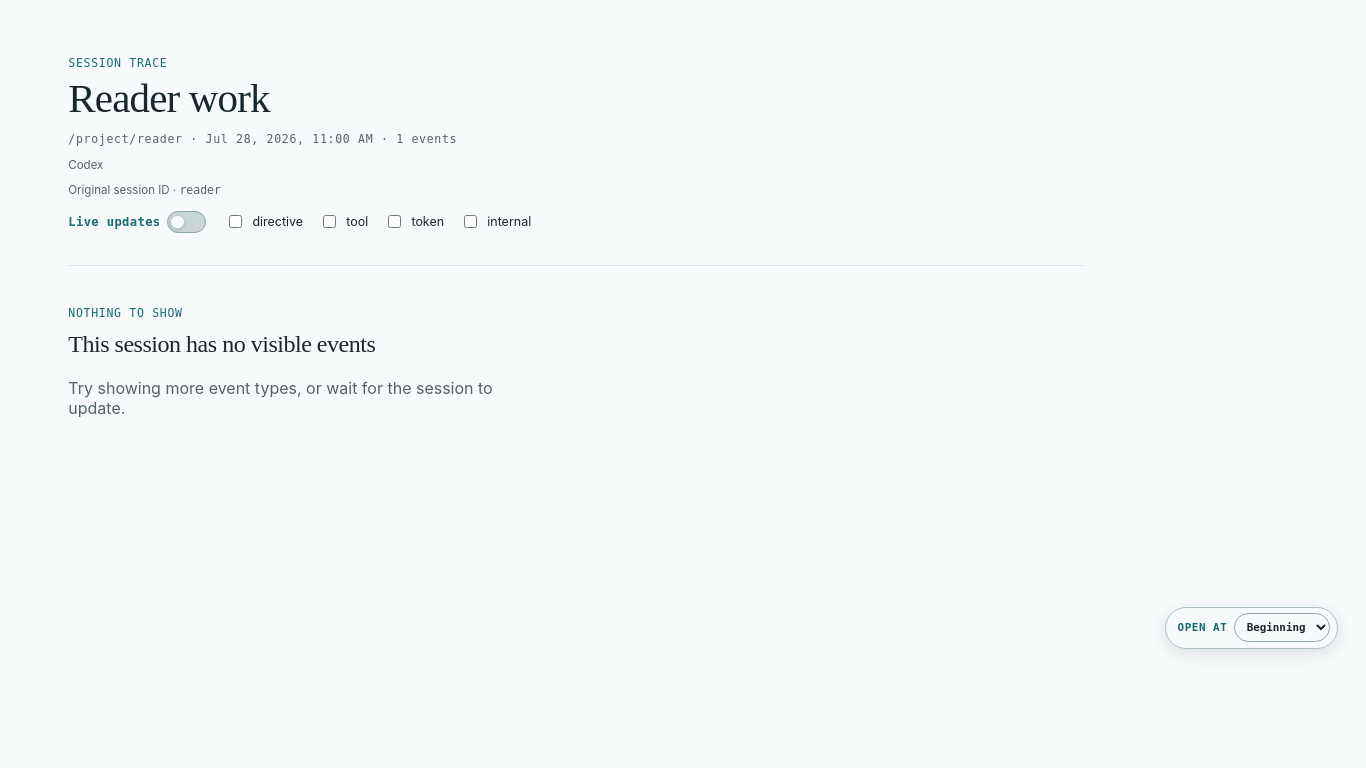
Test: MPA pages › turns an expired lazy-detail cursor into the shared reload state
Click the checkbox labelled "directive".
click(236, 222)  # box [229, 215, 242, 228]
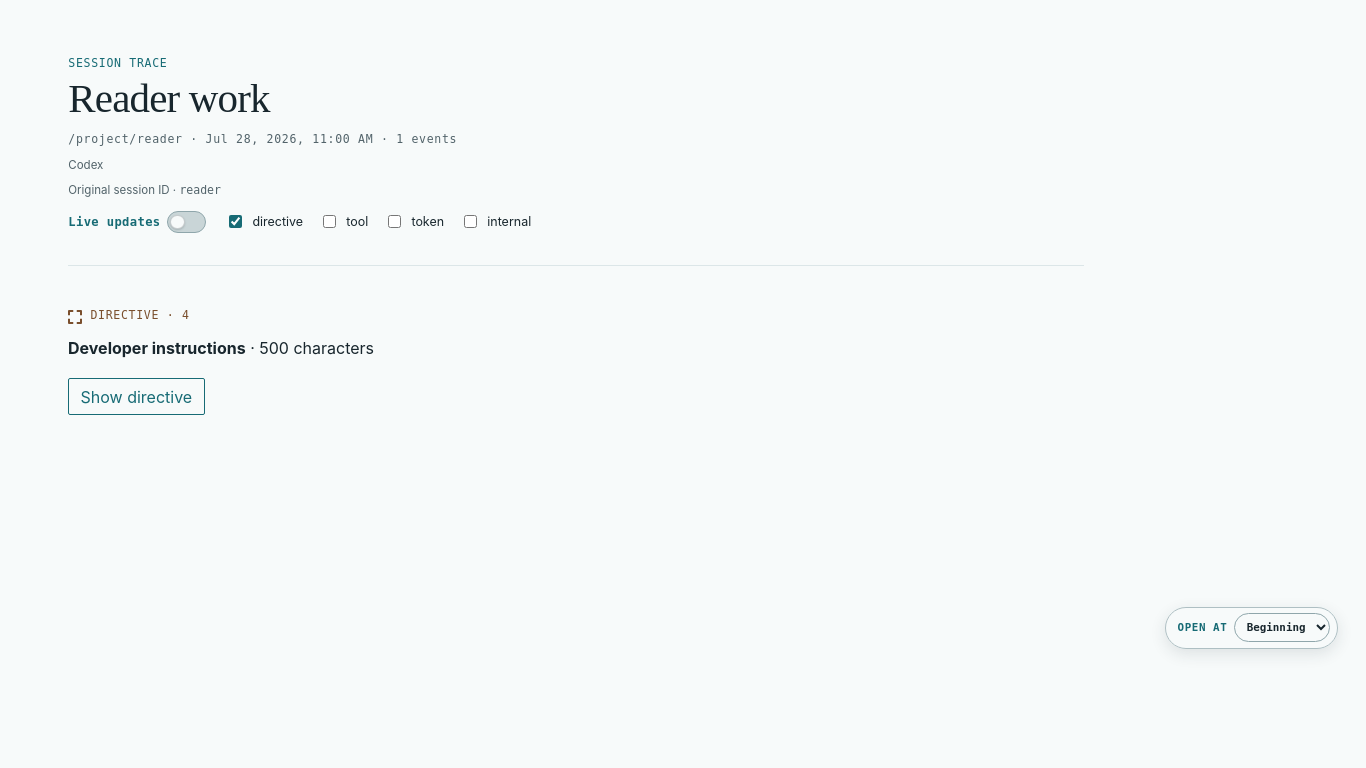
Click the button "Show directive".
click(137, 396)  # box [68, 378, 205, 415]
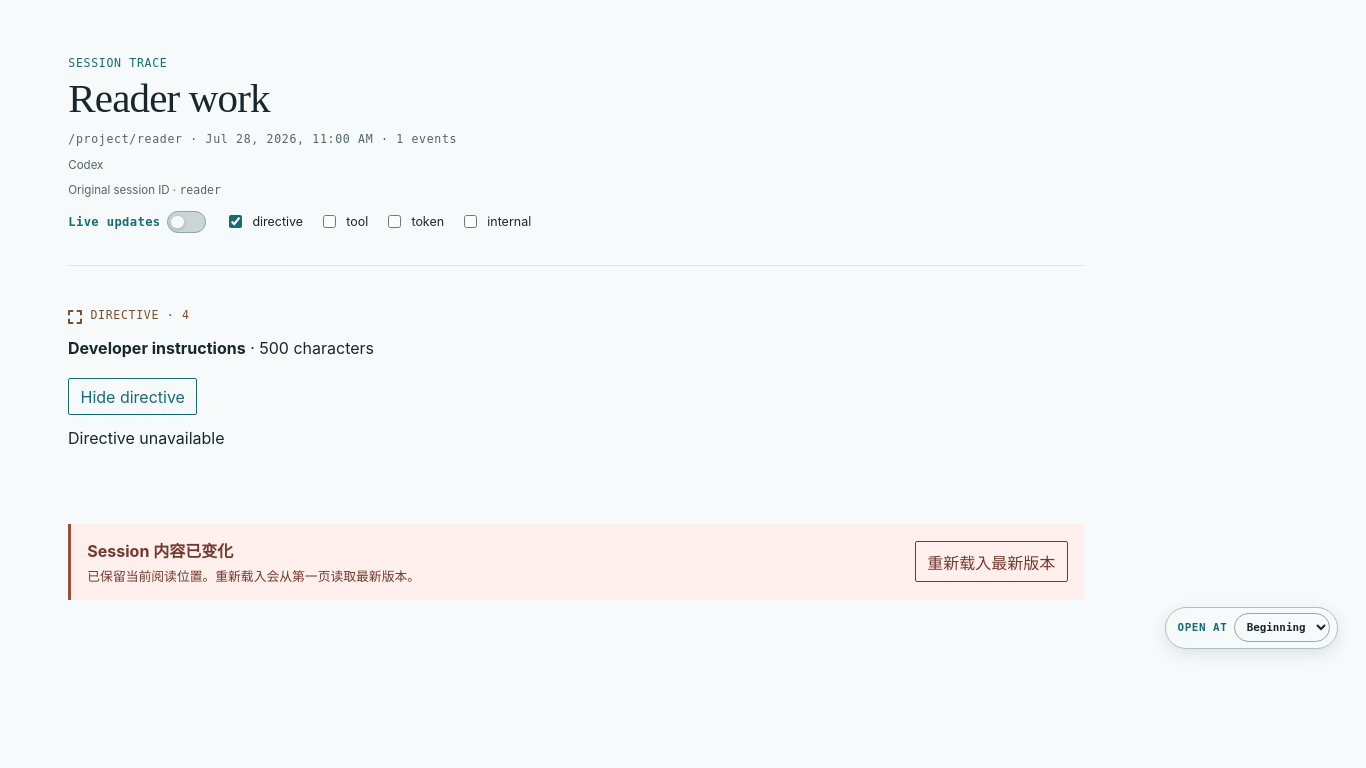
Expected: the text "Developer instructions" is shown, [68, 337, 246, 357]
Expected: the text "Directive unavailable" is shown, [68, 428, 225, 448]
Expected: the text "Session 内容已变化" is shown, [87, 541, 233, 561]
